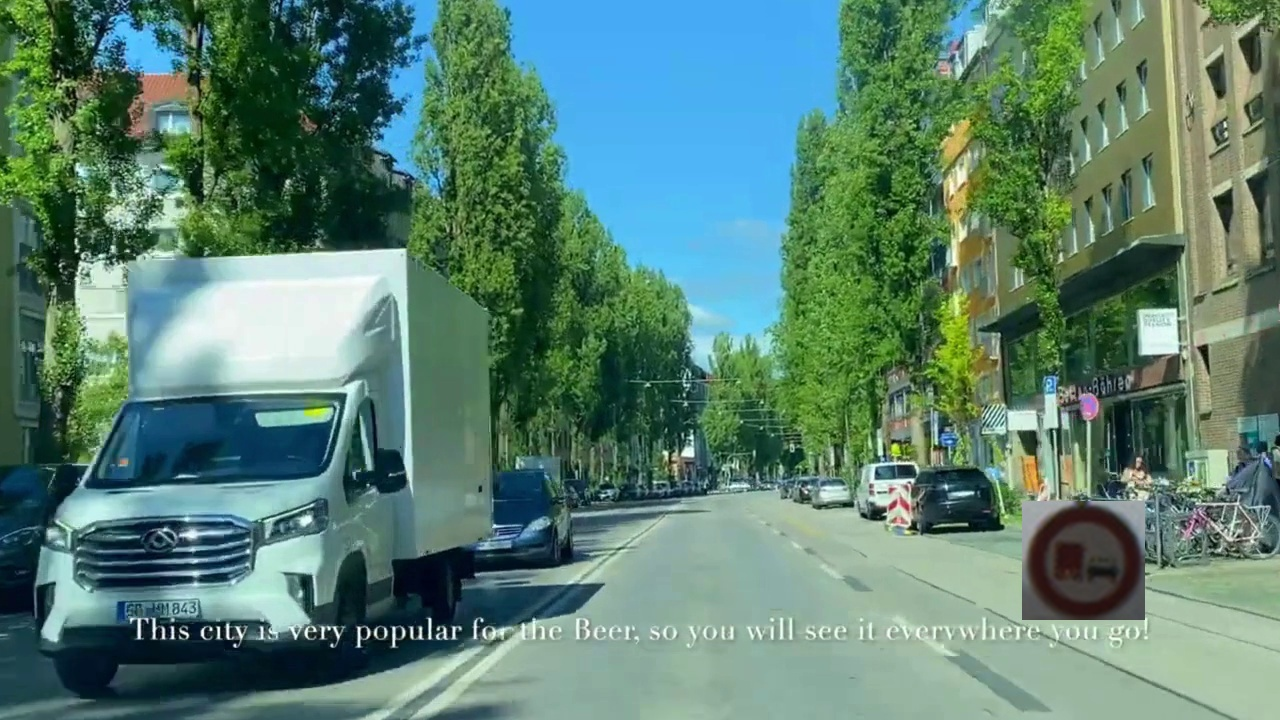No pass >3.5t: (1022, 501, 1145, 620)
